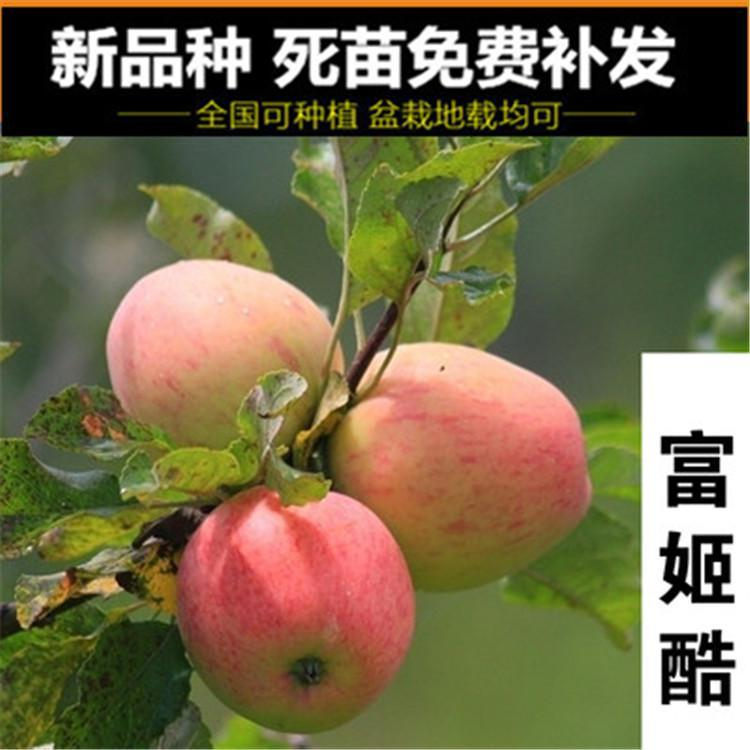apple: (320, 339, 592, 592), (167, 483, 422, 738), (102, 256, 333, 468)
